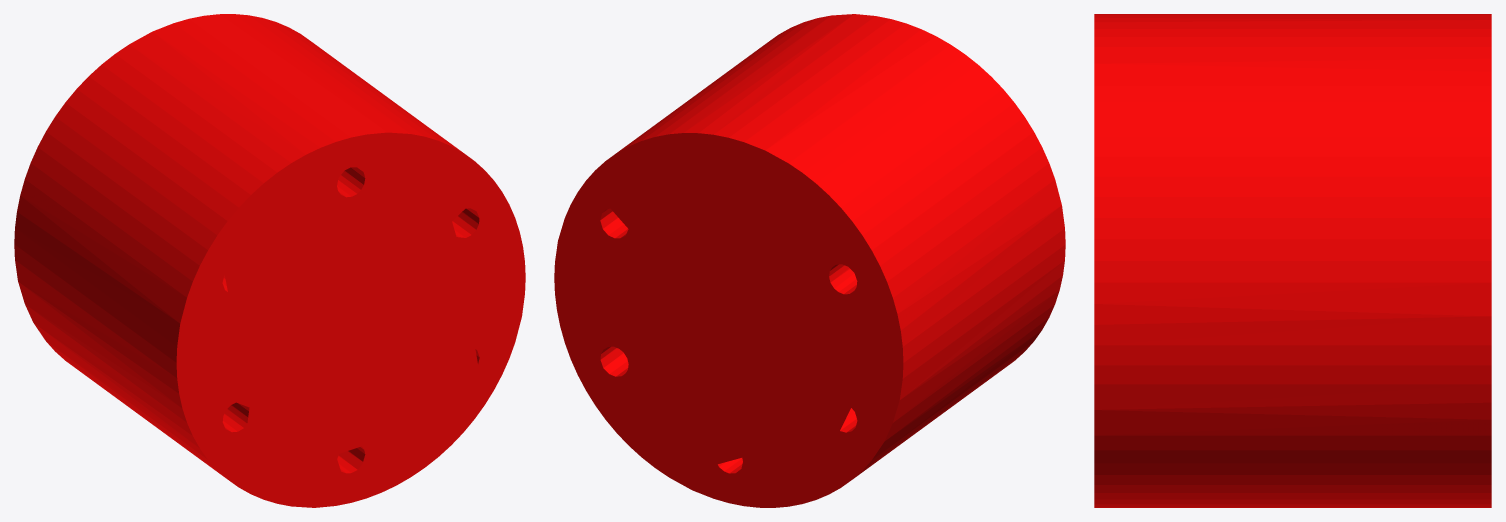
Rendered from legs_1_right_leg_1_x8_1_inner_1.glb.
3 renders of one model, left to right at view 1: azimuth 30°, elevation 25°; view 2: azimuth 150°, elevation 25°; view 3: azimuth 270°, elevation 25°, orthographic. The views are drawn at different scales.
Visible parts, largest first — view 1: legs_1_right_leg_1_x8_1_inner_1.obj; view 2: legs_1_right_leg_1_x8_1_inner_1.obj; view 3: legs_1_right_leg_1_x8_1_inner_1.obj.
Part boxes in pixels (x1,y1,x2,y2): legs_1_right_leg_1_x8_1_inner_1.obj: (14,14,525,507); legs_1_right_leg_1_x8_1_inner_1.obj: (554,14,1065,507); legs_1_right_leg_1_x8_1_inner_1.obj: (1094,14,1491,507).
Bounding box in the file's own units: 0.041 × 0.041 × 0.033.
